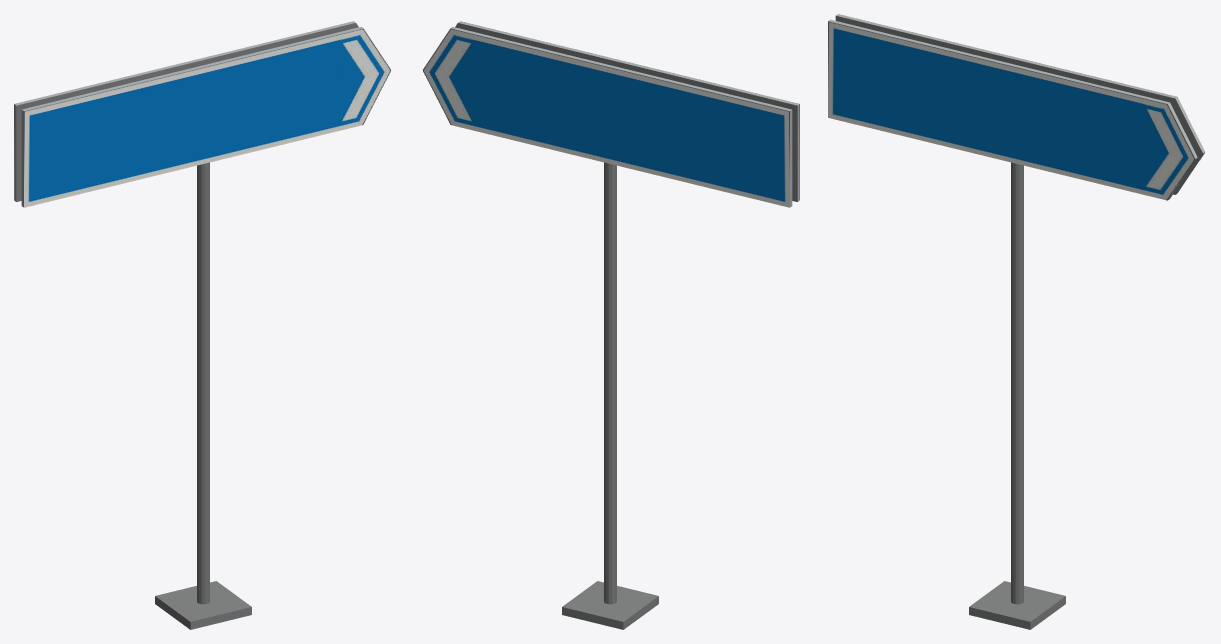
The model's file is beijing_sis_out_a.obj.
The picture shows the model from 3 angles, left to right: view 1: azimuth 30°, elevation 25°; view 2: azimuth 150°, elevation 25°; view 3: azimuth 330°, elevation 25°; orthographic projection.
Visible parts, largest first — view 1: cube, cylinder; view 2: cube, cylinder; view 3: cube, cylinder.
Part boxes in pixels (x1,y1,x2,y2): cube: (14,21,390,629); cylinder: (197,162,209,604); cube: (423,21,799,629); cylinder: (604,162,616,604); cube: (828,14,1204,629); cylinder: (1011,162,1023,604).
Bounding box in the file's own units: 1.5 × 2.12 × 0.25.
